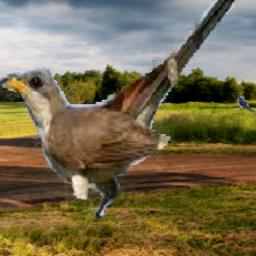Cuckoo: (0, 0, 237, 224)
Swallow: (237, 94, 256, 117)
